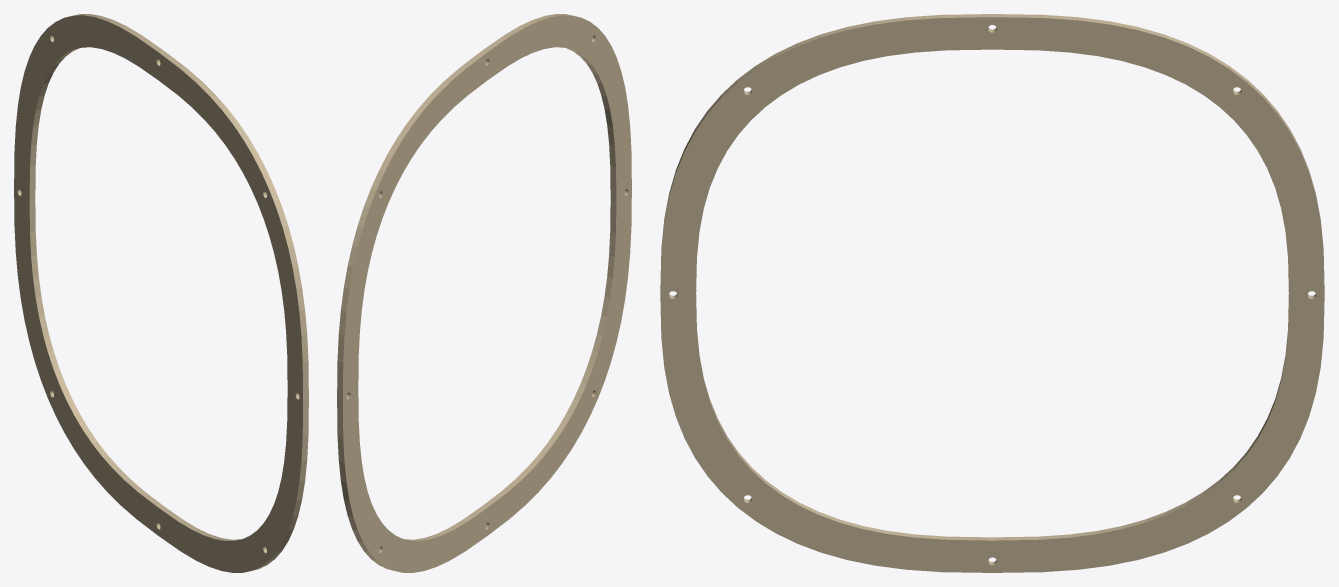
3 renders of one model, left to right at view 1: azimuth 30°, elevation 25°; view 2: azimuth 150°, elevation 25°; view 3: azimuth 270°, elevation 25°, orthographic. The views are drawn at different scales.
Visible parts, largest first — view 1: geometry_0; view 2: geometry_0; view 3: geometry_0.
Part boxes in pixels (x1,y1,x2,y2): geometry_0: [14, 14, 308, 572]; geometry_0: [337, 14, 631, 572]; geometry_0: [660, 14, 1324, 572].
Size of the model in its own units: 3 by 240 by 260.
